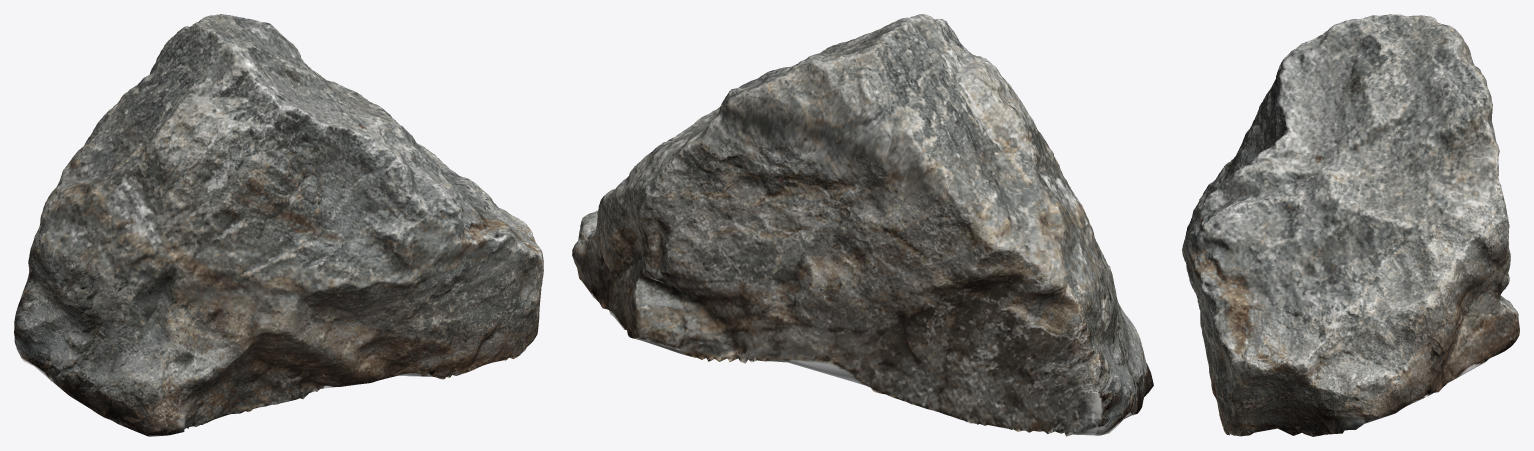
File: sparse2.glb
3 views of the same model, side by side, from view 1: azimuth 30°, elevation 25°; view 2: azimuth 150°, elevation 25°; view 3: azimuth 270°, elevation 25° (orthographic). The views are drawn at different scales.
Parts seen in each view (by area): view 1: Node; view 2: Node; view 3: Node.
Boxes of the visible parts, box(x1,y1,x2,y2) form: Node: box(14, 14, 543, 436); Node: box(572, 14, 1153, 436); Node: box(1182, 14, 1519, 436).
Bounding box in the file's own units: 5.04 × 3.32 × 3.11.
1 material, 1 textured.
